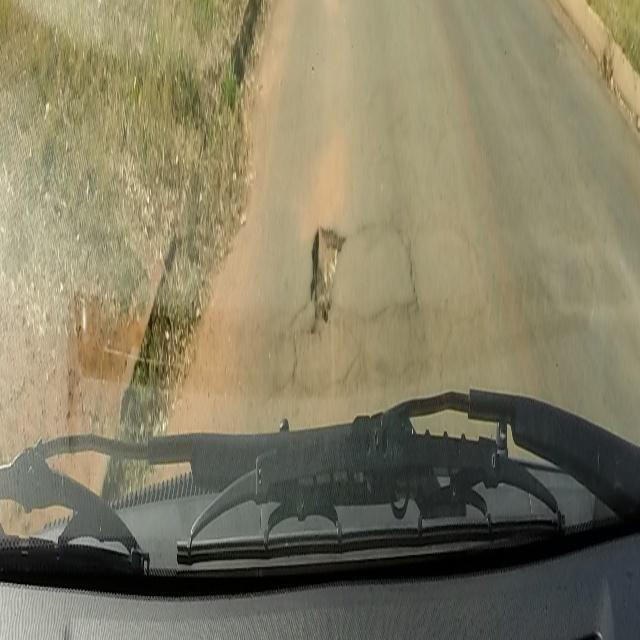pothole: (308, 218, 347, 348)
